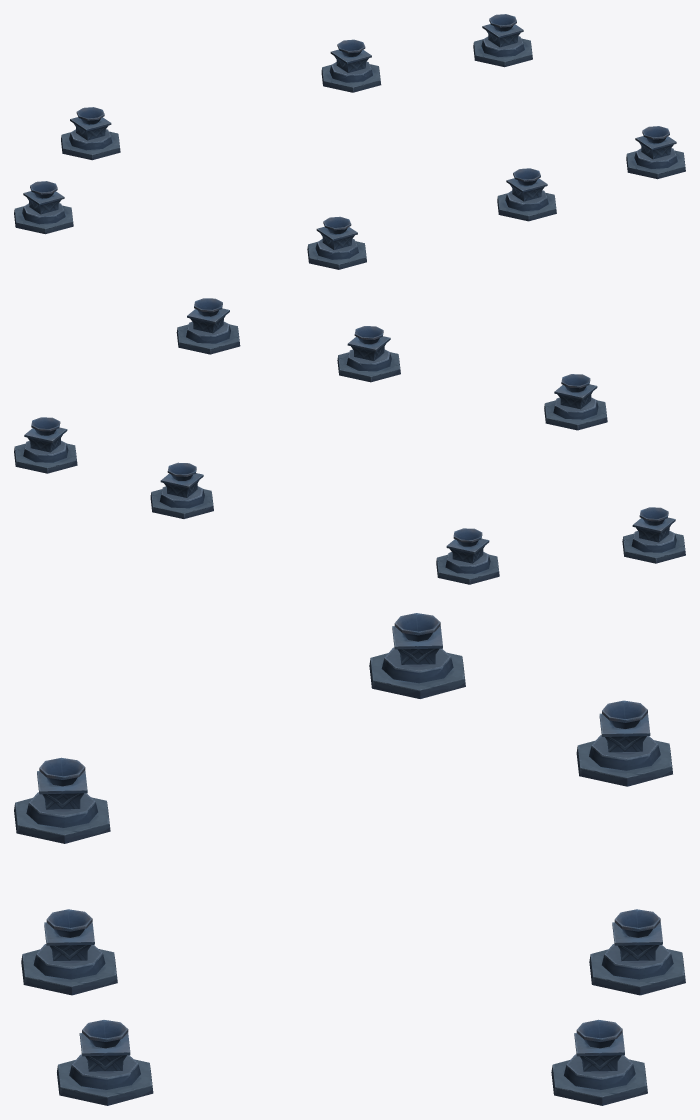
The model's file is wujian39.fbx.
The picture shows the model from 3 angles, top to bottom: view 1: azimuth 30°, elevation 25°; view 2: azimuth 150°, elevation 25°; view 3: azimuth 270°, elevation 25°; orthographic projection. The views are drawn at different scales.
Visible parts, largest first — view 1: wujian39; view 2: wujian39; view 3: wujian39.
Part boxes in pixels (left/top/right/bottom): wujian39: left=14, top=14, right=685, bottom=269; wujian39: left=14, top=298, right=685, bottom=584; wujian39: left=14, top=613, right=685, bottom=1105.
Size of the model in its own units: 2129 by 117 by 1335.
1 material, 1 textured.
